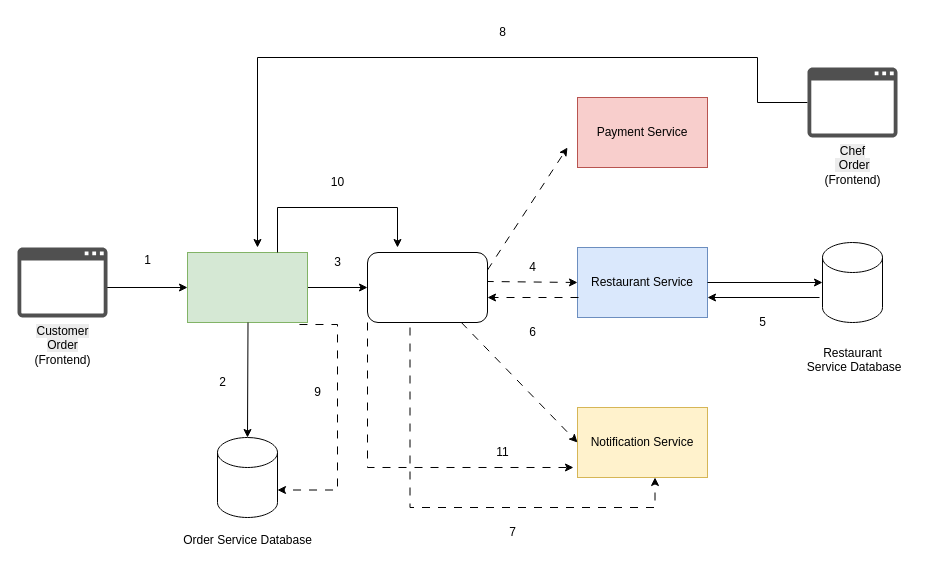
The diagram is 929 pixels wide and 584 high, and some of its shapes have lost their labels. Here are the shapes that lost their labels. From the top down, the centre of each, then its label:
At (x=247, y=287): "Order Service".
At (x=427, y=287): "RabbitMQ".
